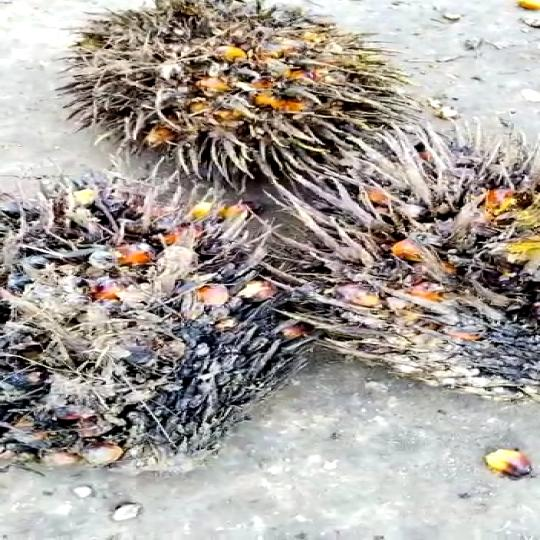terlalu masak: (0, 173, 288, 478), (61, 0, 405, 191)
